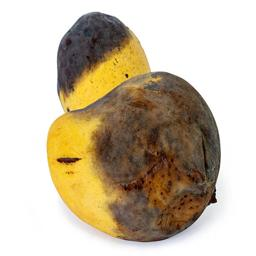Mango Rotten: (32, 76, 245, 242), (37, 0, 158, 123)
